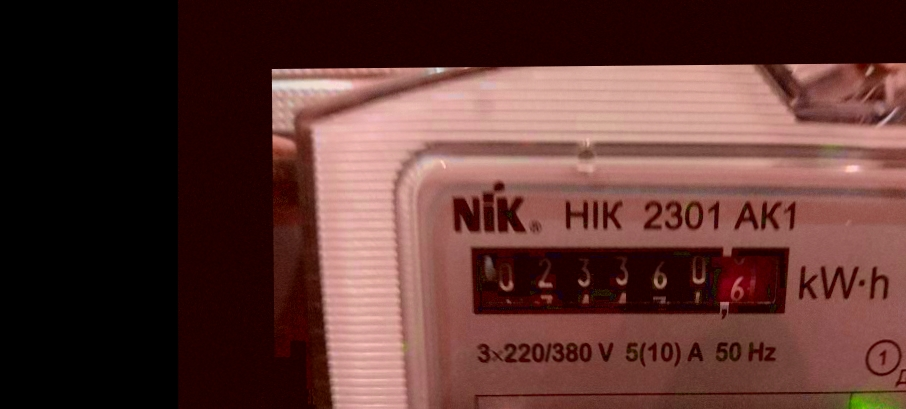0: (495, 257, 517, 292), (688, 251, 710, 286)
2: (535, 254, 556, 290)
3: (574, 254, 594, 289), (613, 253, 631, 287)
6: (650, 255, 670, 289), (728, 270, 746, 303)
screen: (458, 231, 810, 333)
